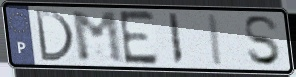D: (33, 8, 77, 64)
E: (117, 9, 161, 67)
I: (205, 12, 226, 68), (166, 11, 185, 67)
M: (69, 10, 127, 65)
S: (241, 14, 284, 68)
